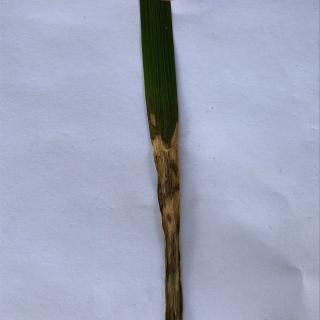Hawar-Daun: (151, 121, 184, 320), (148, 112, 158, 126)
